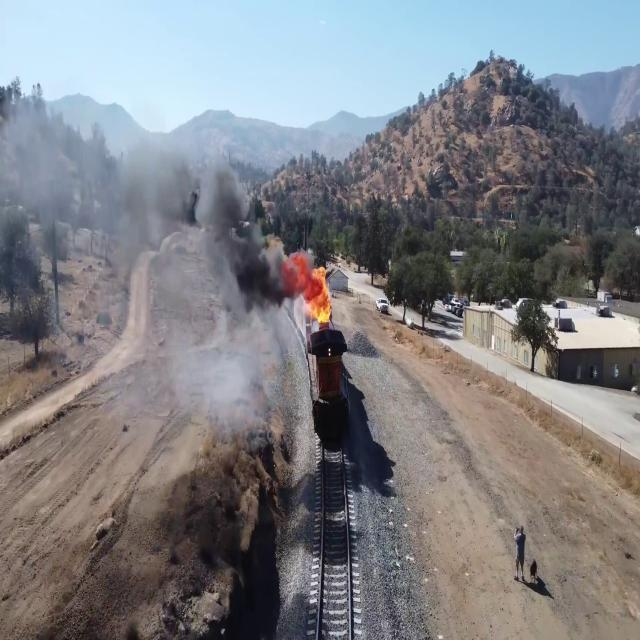Fire: (297, 274, 336, 330)
Smoke: (235, 226, 291, 323)
